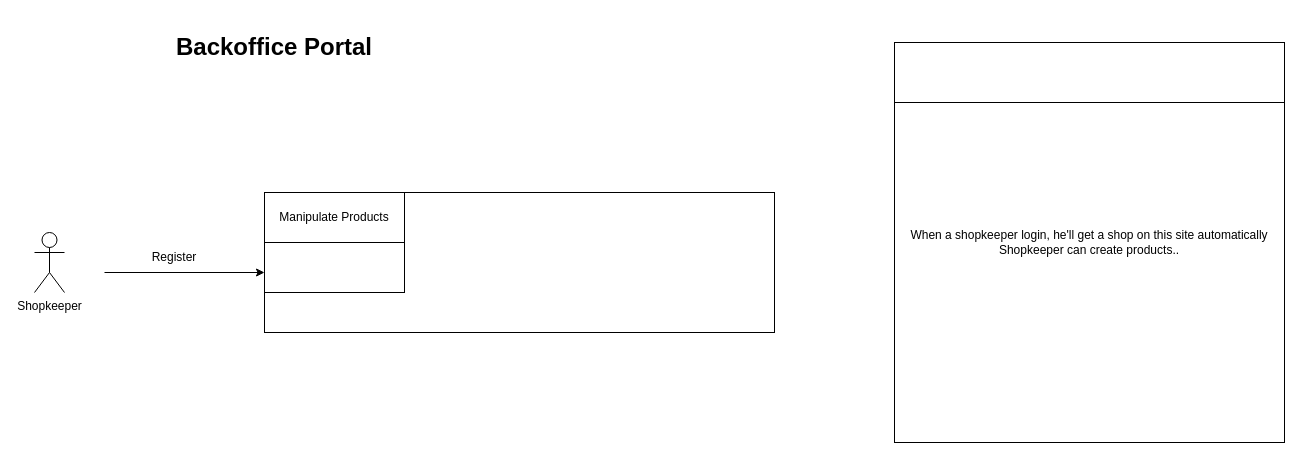
The diagram is 1302 pixels wide and 460 high, and some of its shapes have lost their labels. The shapes that lost their labels are listed below. From the top down, each one's centre as x and y in pixels, then its label:
At point 1089,72: "Shopkeeper Story".
At point 334,267: "View Own Products".
